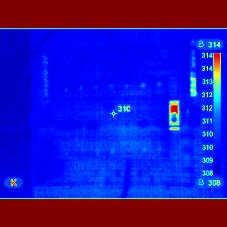Less: (170, 113, 180, 130)
